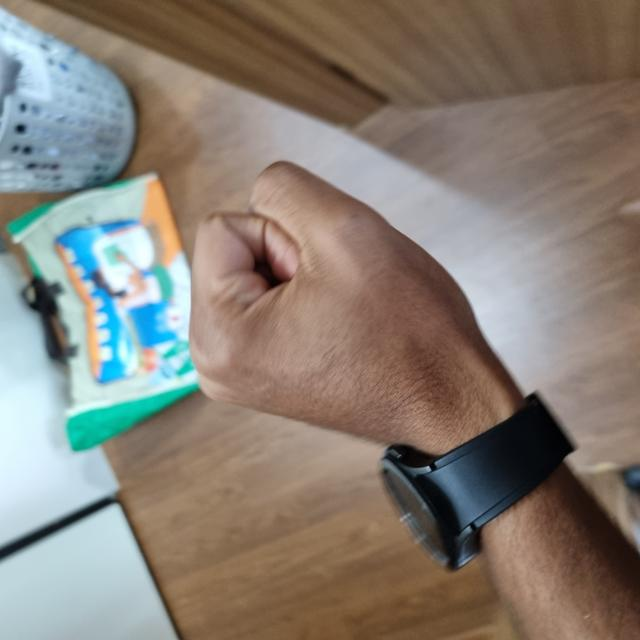Rock: (187, 189, 478, 515)
